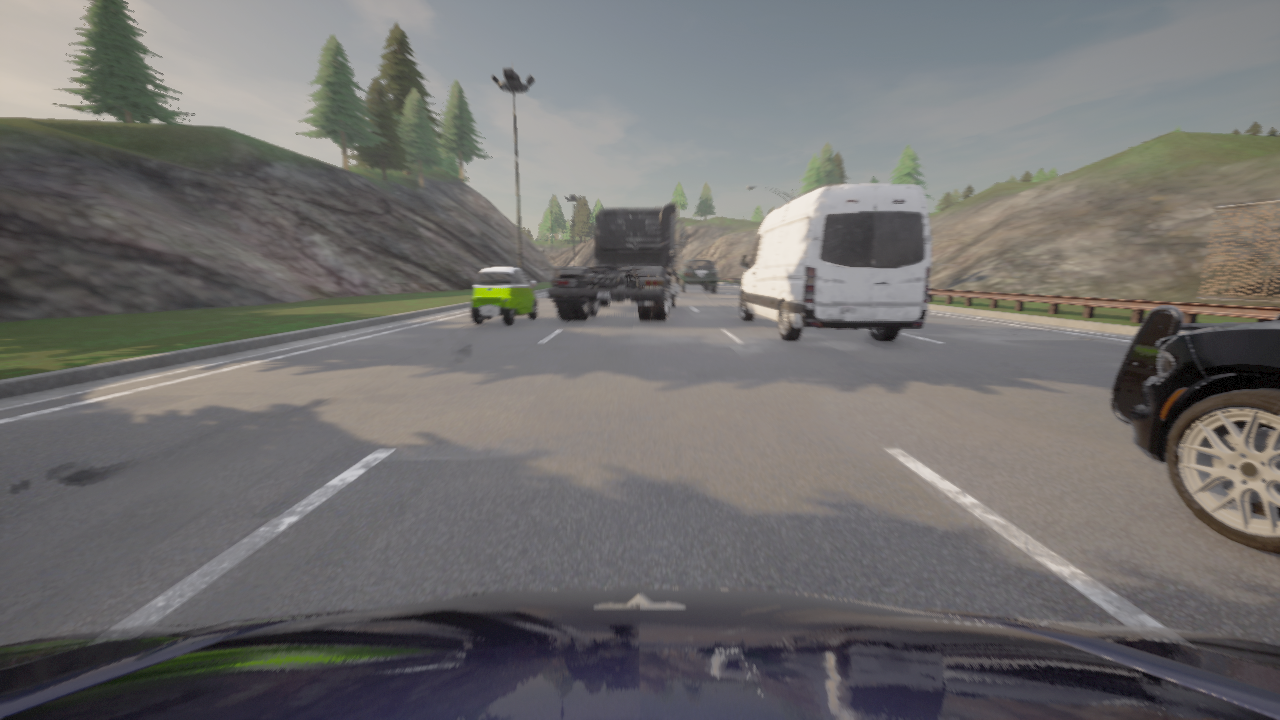cyclist: (0, 588, 1279, 719), (1111, 306, 1279, 554), (740, 185, 931, 341), (548, 203, 686, 321), (471, 267, 537, 324), (677, 259, 717, 293)
